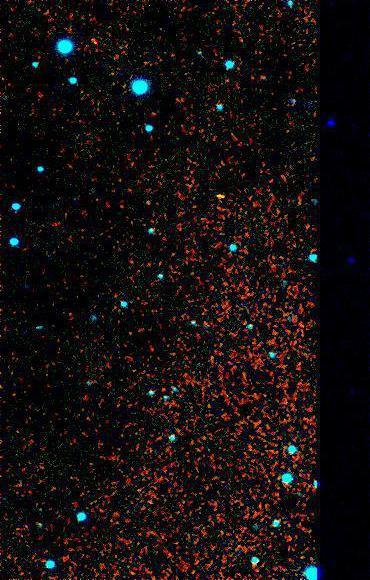star: (203, 183, 233, 213)
